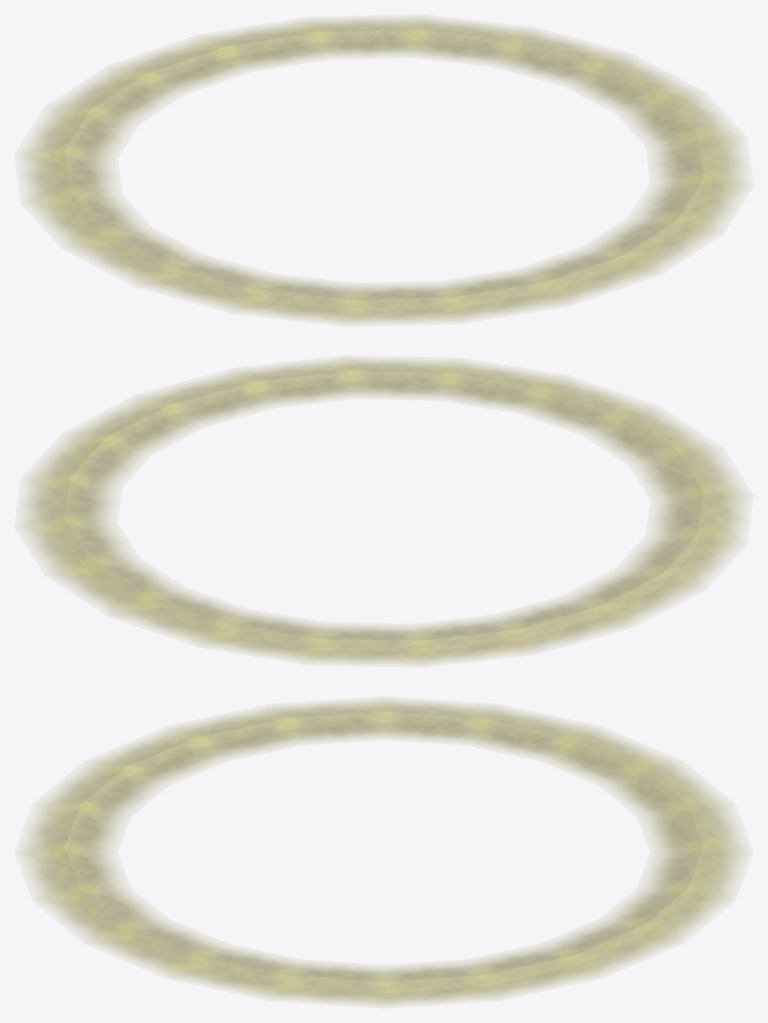
File: mist01-art.glb
3 views of the same model, one above another, from view 1: azimuth 30°, elevation 25°; view 2: azimuth 150°, elevation 25°; view 3: azimuth 270°, elevation 25° (orthographic).
Parts seen in each view (by area): view 1: Mist01_Art; view 2: Mist01_Art; view 3: Mist01_Art.
Part boxes in pixels (left/top/right/bottom): Mist01_Art: left=17, top=15, right=750, bottom=325; Mist01_Art: left=17, top=356, right=750, bottom=666; Mist01_Art: left=17, top=697, right=750, bottom=1007.
Size of the model in its own units: 2.4 by 0.0401 by 2.4.
1 material, 1 textured.
